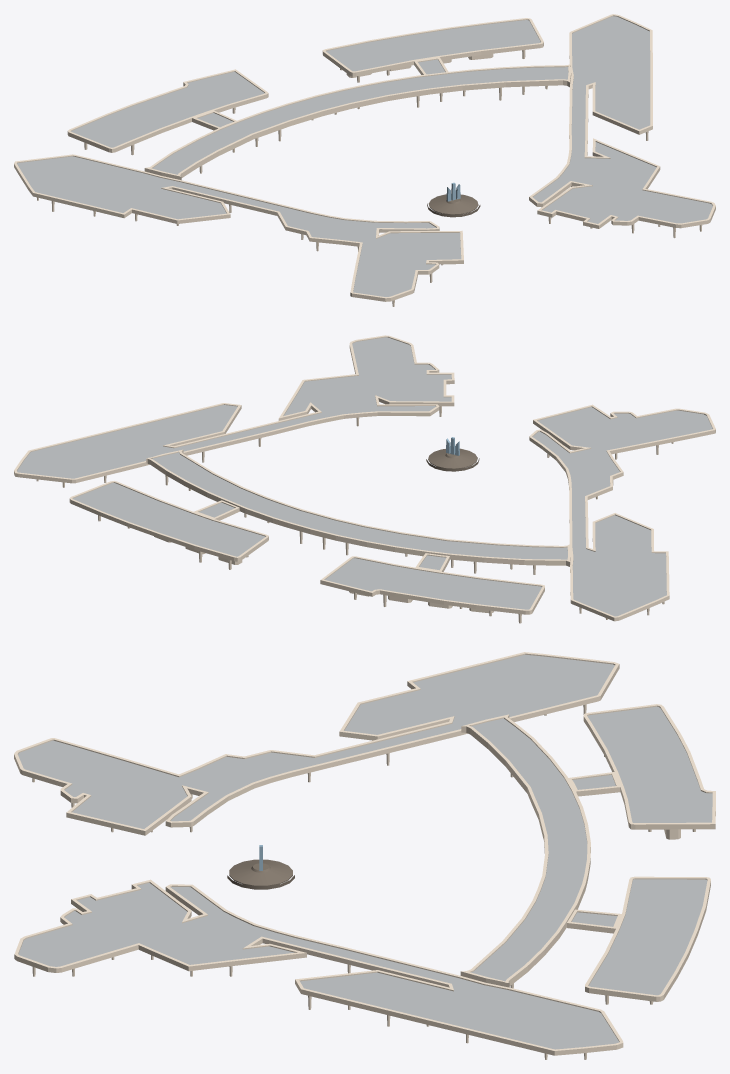
The model's file is wdw-epcot-entrance.glb.
3 renders of one model, top to bottom at view 1: azimuth 30°, elevation 25°; view 2: azimuth 150°, elevation 25°; view 3: azimuth 270°, elevation 25°, orthographic. The views are drawn at different scales.
Parts seen in each view (by area): view 1: EPCOT Entrance; view 2: EPCOT Entrance; view 3: EPCOT Entrance.
Boxes of the visible parts, x1=… form: EPCOT Entrance: x1=14, y1=14, x2=715, y2=306; EPCOT Entrance: x1=14, y1=335, x2=715, y2=623; EPCOT Entrance: x1=14, y1=652, x2=715, y2=1059.
Size of the model in its own units: 192 by 6.6 by 143.
